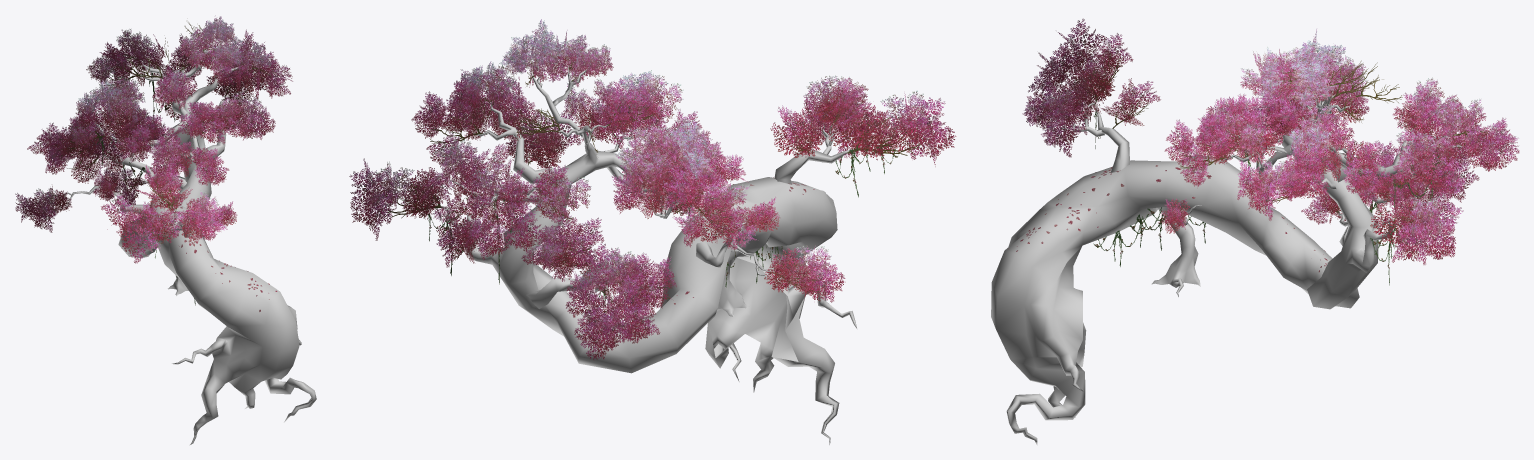
Rendered from WLS_taoshu01.FBX.
The picture shows the model from 3 angles, left to right: view 1: azimuth 30°, elevation 25°; view 2: azimuth 150°, elevation 25°; view 3: azimuth 270°, elevation 25°; orthographic projection. The views are drawn at different scales.
Visible parts, largest first — view 1: WLS_taoshu01; view 2: WLS_taoshu01; view 3: WLS_taoshu01.
Part boxes in pixels (x1,y1,x2,y2): WLS_taoshu01: [15, 15, 316, 445]; WLS_taoshu01: [349, 19, 956, 444]; WLS_taoshu01: [991, 18, 1519, 445].
Bounding box in the file's own units: 3659 × 3978 × 4274.
